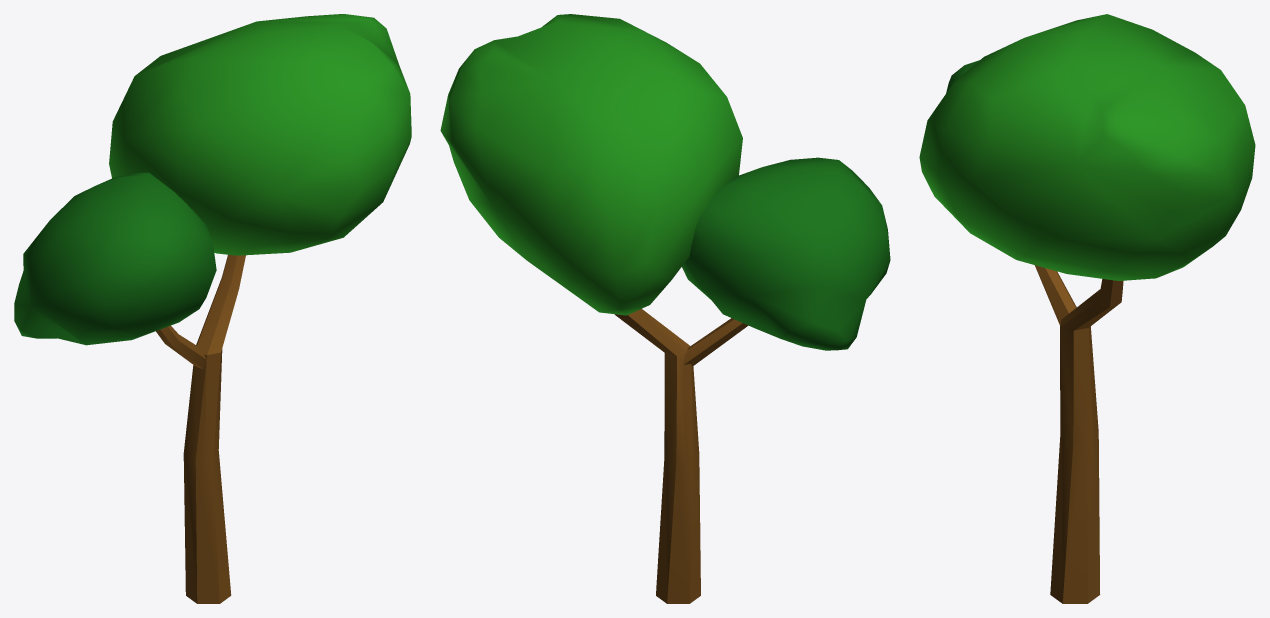
Rendered from Tree 01.fbx.
3 renders of one model, left to right at view 1: azimuth 30°, elevation 25°; view 2: azimuth 150°, elevation 25°; view 3: azimuth 270°, elevation 25°, orthographic. The views are drawn at different scales.
Visible parts, largest first — view 1: Cube.001, Cube, Cylinder; view 2: Cube.001, Cube, Cylinder; view 3: Cube.001, Cylinder.
Part boxes in pixels (x1=…): Cube.001: x1=109, y1=14, x2=411, y2=255; Cube: x1=14, y1=172, x2=216, y2=345; Cylinder: x1=156, y1=254, x2=245, y2=603; Cube.001: x1=440, y1=14, x2=742, y2=315; Cube: x1=682, y1=157, x2=890, y2=350; Cylinder: x1=615, y1=309, x2=748, y2=603; Cube.001: x1=919, y1=14, x2=1255, y2=280; Cylinder: x1=1034, y1=265, x2=1123, y2=603.
Bounding box in the file's own units: 1939 × 2643 × 1348.
